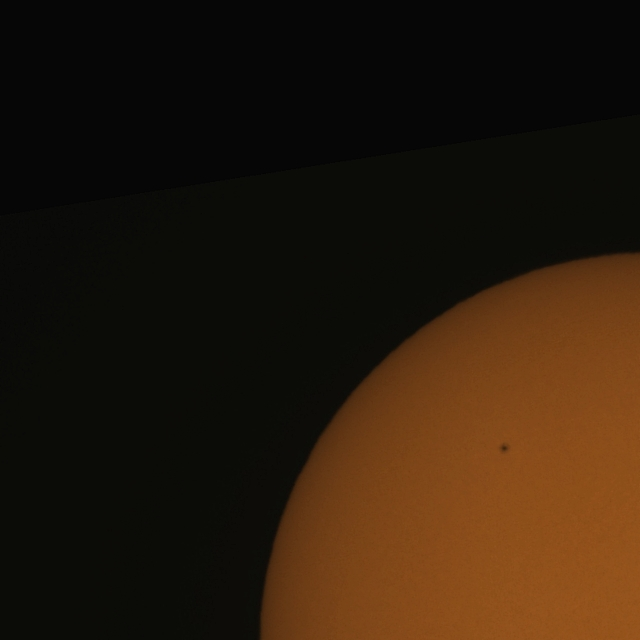sunspot: (498, 442, 511, 455)
